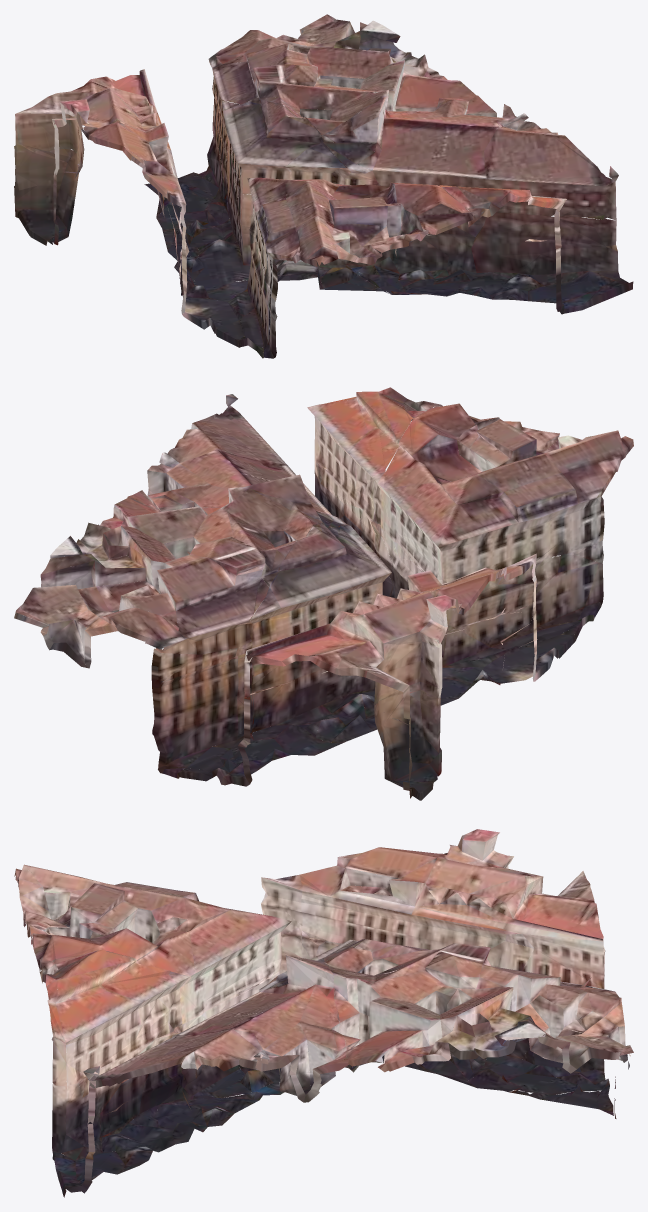
3 renders of one model, top to bottom at view 1: azimuth 30°, elevation 25°; view 2: azimuth 150°, elevation 25°; view 3: azimuth 270°, elevation 25°, orthographic. The views are drawn at different scales.
Visible parts, largest first — view 1: Mesh_0; view 2: Mesh_0; view 3: Mesh_0.
Boxes of the visible parts, bbox=[...] form: Mesh_0: bbox=[14, 14, 633, 358]; Mesh_0: bbox=[14, 387, 633, 800]; Mesh_0: bbox=[14, 829, 633, 1197].
Size of the model in its own units: 67.51 by 27.1 by 82.64.
Materials: 2 (2 with a texture image).
